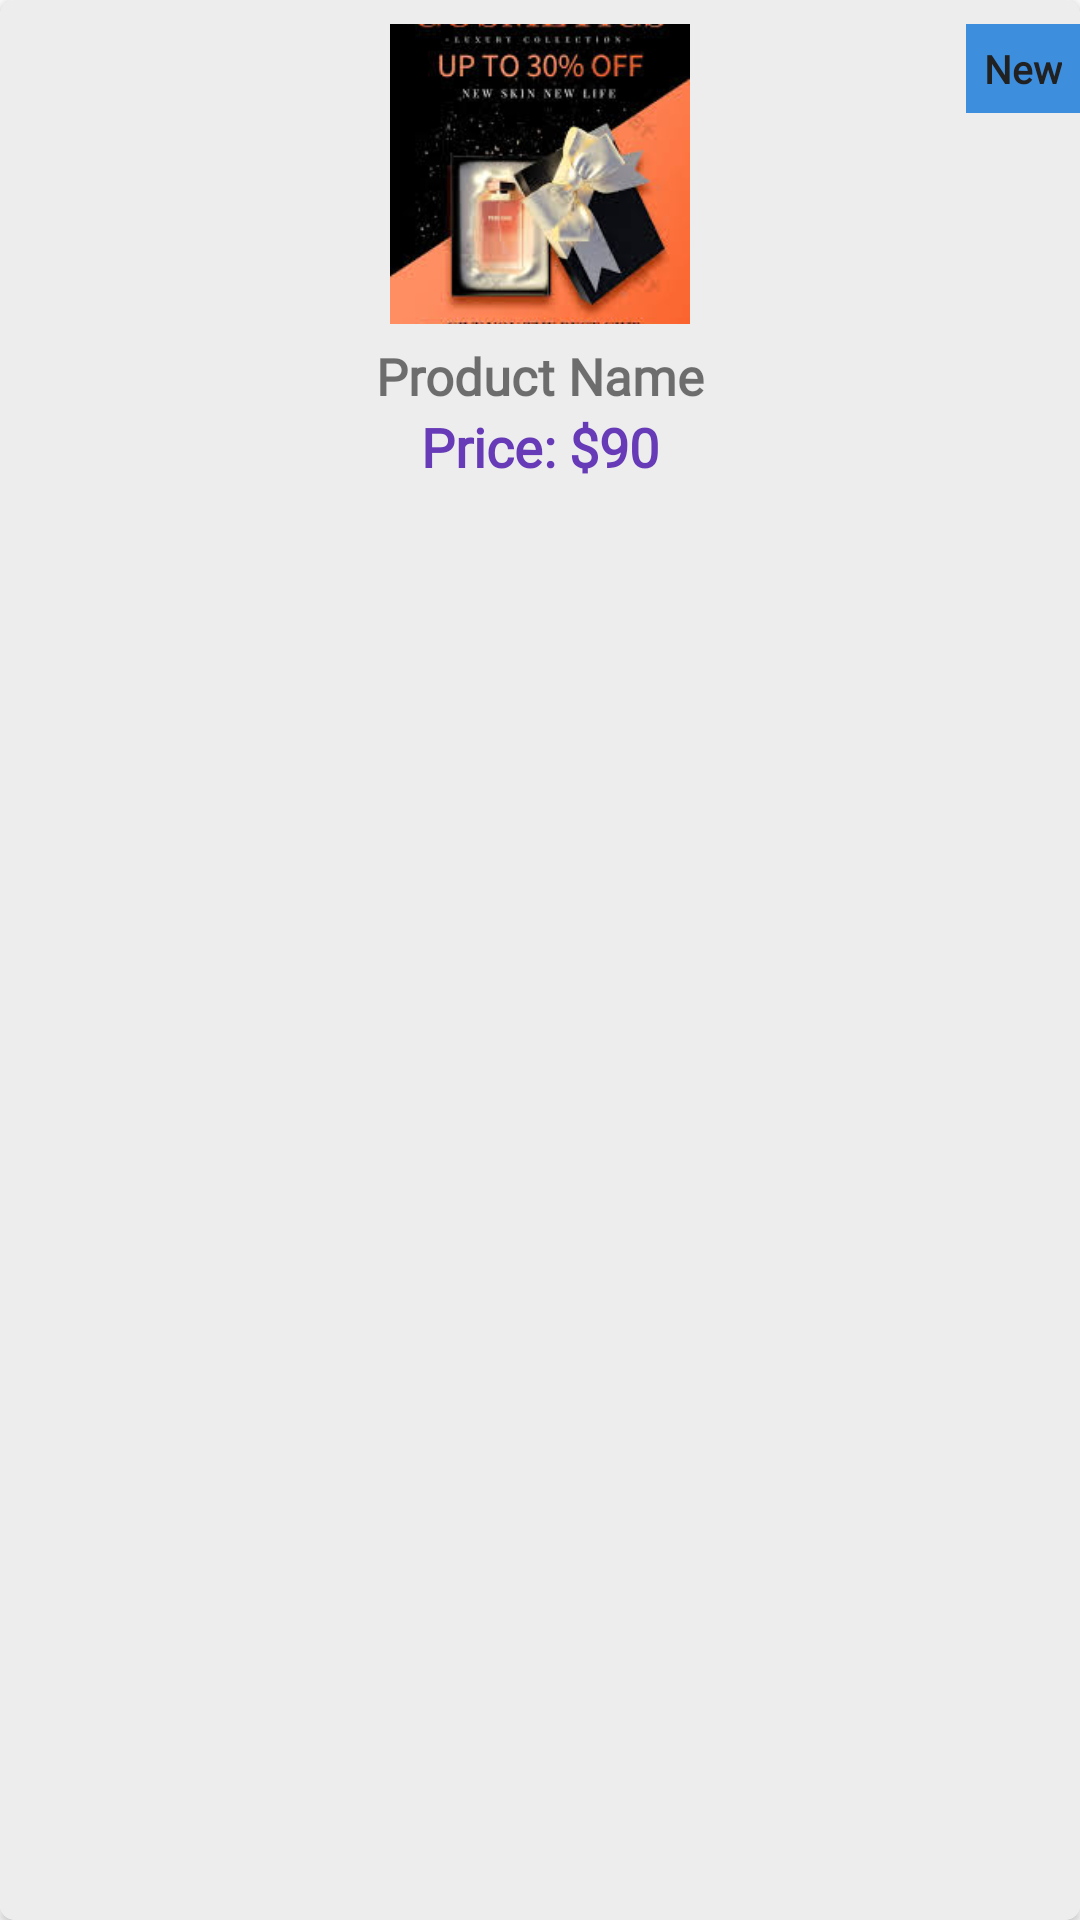

Icon click points for this 1080×1920 phone screenshot, format (x,y):
perfumes: (540,174)
